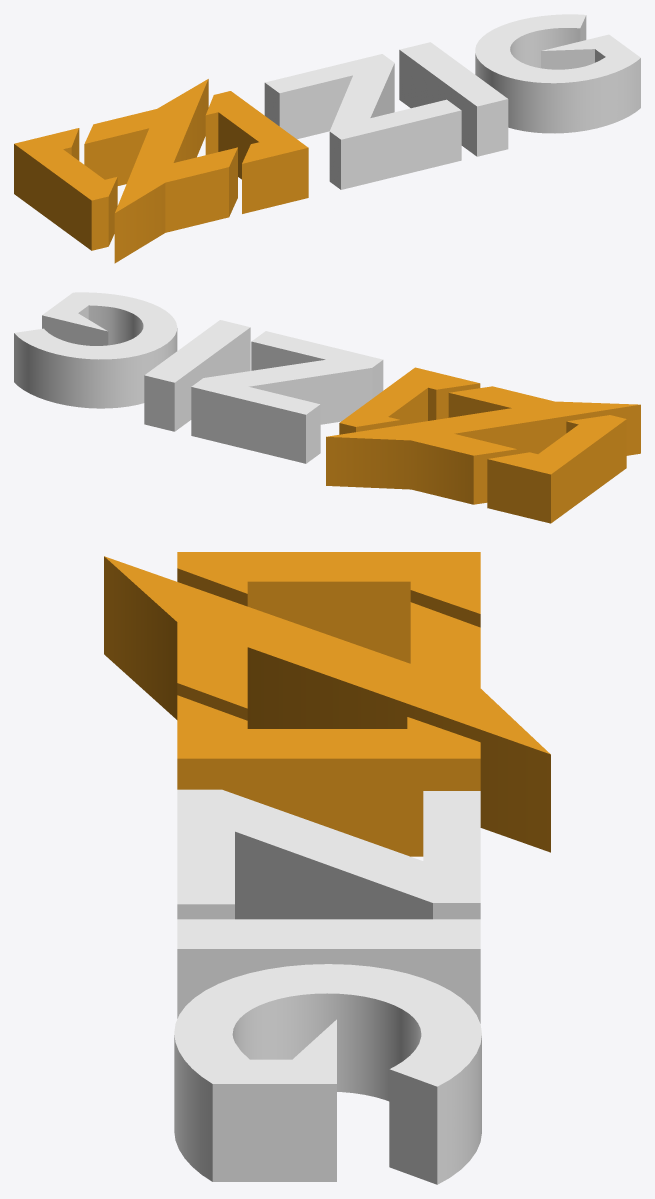
Rendered from zig_3d.glb.
3 views of the same model, one above another, from view 1: azimuth 30°, elevation 25°; view 2: azimuth 150°, elevation 25°; view 3: azimuth 270°, elevation 25° (orthographic). The views are drawn at different scales.
Visible parts, largest first — view 1: Name, Logo; view 2: Name, Logo; view 3: Name, Logo.
Boxes of the visible parts, <box> form: Name: <box>264,14,640,189</box>; Logo: <box>14,79,308,263</box>; Name: <box>14,292,383,463</box>; Logo: <box>326,367,640,523</box>; Name: <box>174,789,481,1184</box>; Logo: <box>104,552,550,856</box>.
Size of the model in its own units: 0.1118 by 0.00957 by 0.0395.
